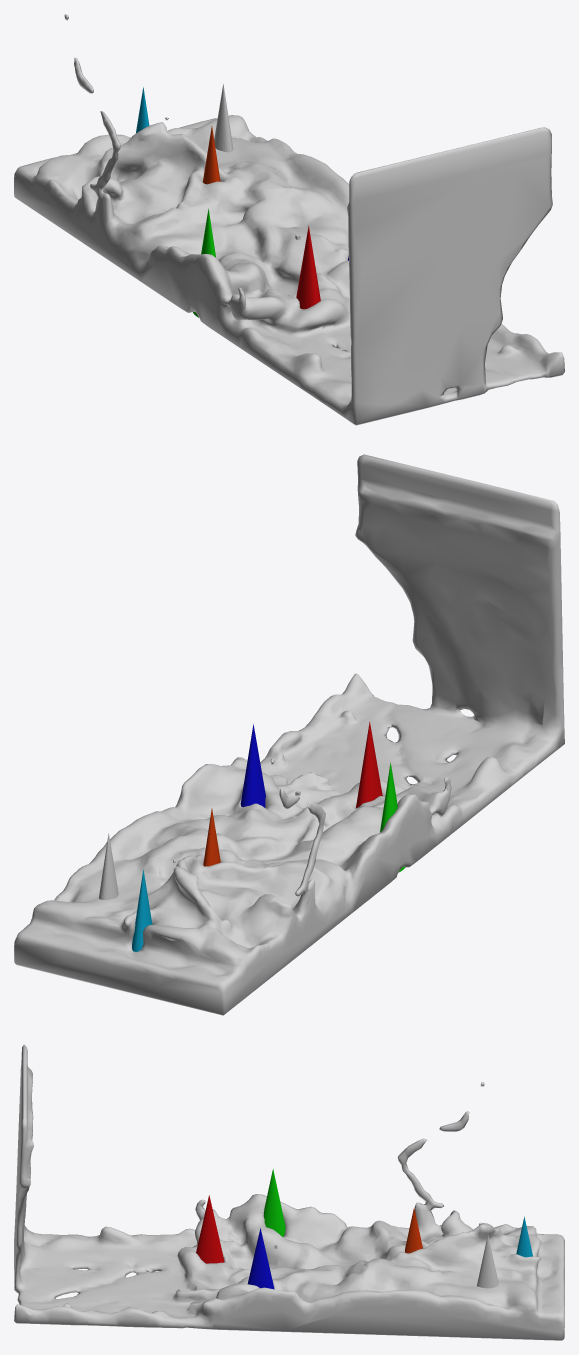
3 renders of one model, top to bottom at view 1: azimuth 30°, elevation 25°; view 2: azimuth 150°, elevation 25°; view 3: azimuth 270°, elevation 25°, orthographic. The views are drawn at different scales.
Visible parts, largest first — view 1: Liquid_Domain, 円錐.001, 円錐, 円錐.004; view 2: Liquid_Domain, 円錐.002, 円錐.001, 円錐.005, 円錐; view 3: Liquid_Domain, 円錐.001, 円錐.002, 円錐.003, 円錐, 円錐.004, 円錐.005.
Boxes of the visible parts, bbox=[...] form: Liquid_Domain: bbox=[14, 14, 564, 425]; 円錐.001: bbox=[296, 225, 320, 309]; 円錐: bbox=[214, 84, 233, 152]; 円錐.004: bbox=[202, 126, 220, 184]; Liquid_Domain: bbox=[14, 454, 564, 1015]; 円錐.002: bbox=[240, 724, 265, 807]; 円錐.001: bbox=[355, 721, 382, 808]; 円錐.005: bbox=[132, 869, 152, 951]; 円錐: bbox=[99, 833, 118, 899]; Liquid_Domain: bbox=[14, 1044, 564, 1340]; 円錐.001: bbox=[196, 1195, 224, 1263]; 円錐.002: bbox=[247, 1228, 274, 1289]; 円錐.003: bbox=[263, 1169, 285, 1236]; 円錐: bbox=[477, 1235, 498, 1288]; 円錐.004: bbox=[405, 1207, 422, 1253]; 円錐.005: bbox=[516, 1216, 532, 1257].
Size of the model in its own units: 129 by 158 by 361.
